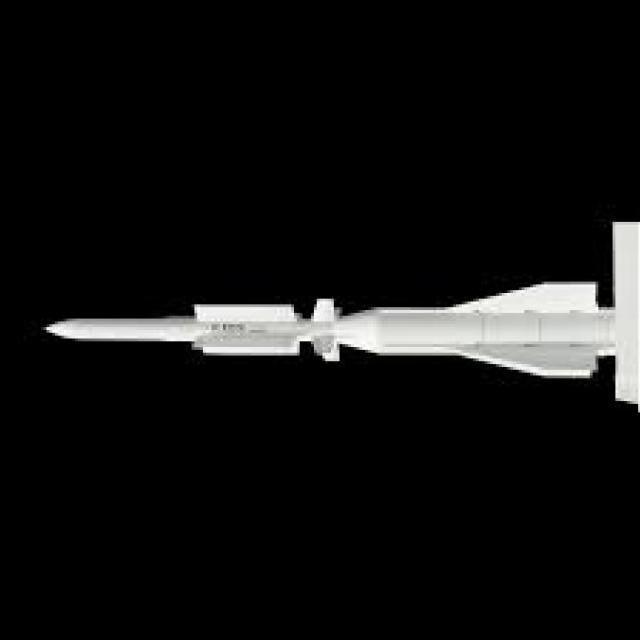Missile: (36, 308, 210, 352)
